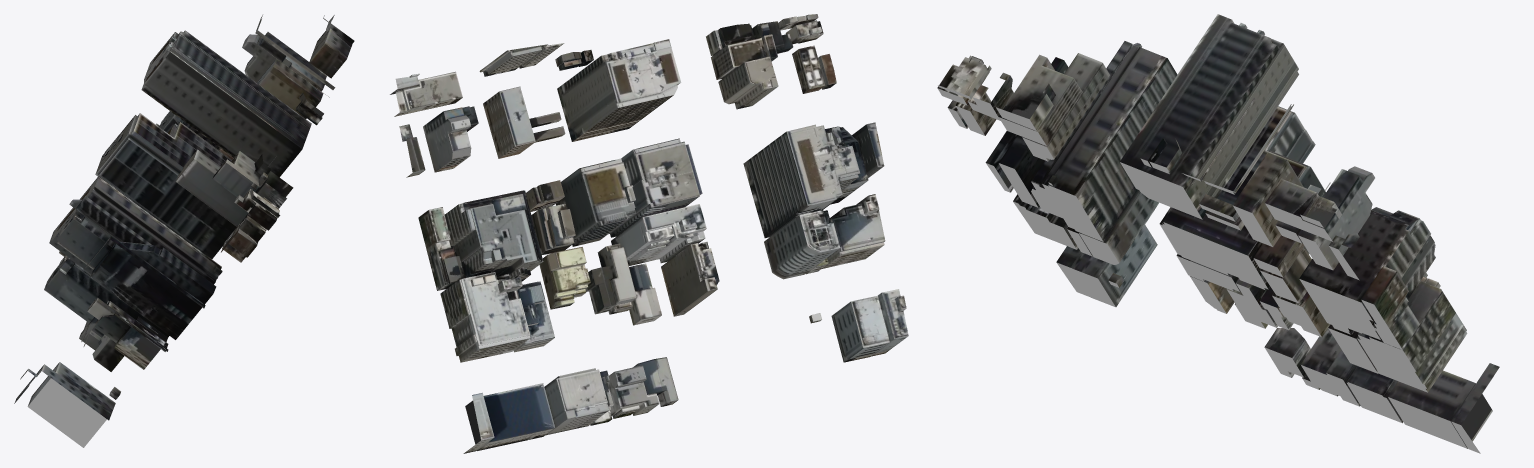
File: 39545_bldg_Building.glb
The picture shows the model from 3 angles, left to right: view 1: azimuth 30°, elevation 25°; view 2: azimuth 150°, elevation 25°; view 3: azimuth 270°, elevation 25°; orthographic projection. The views are drawn at different scales.
Bounding box in the file's own units: 137 × 105 × 142.
Materials: 3 (2 with a texture image).
